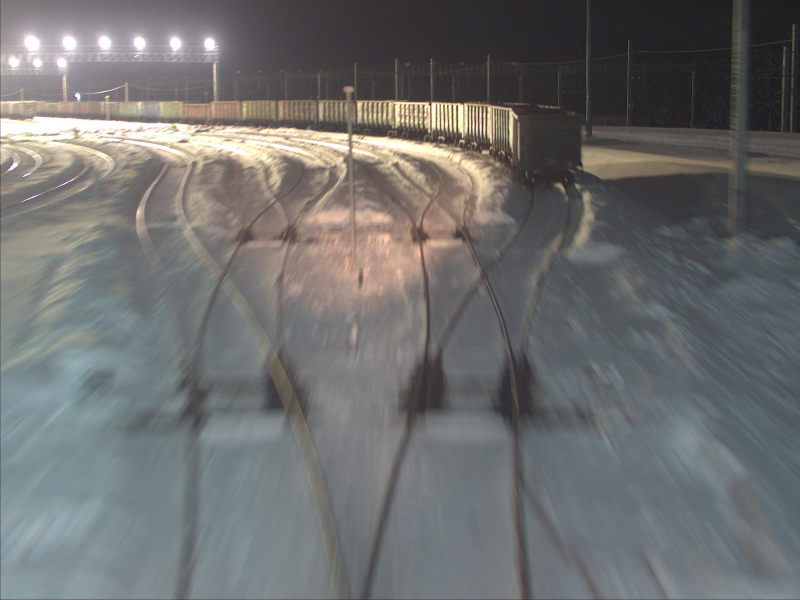left: (412, 266, 518, 412)
